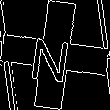N_N: (32, 27, 78, 83)
